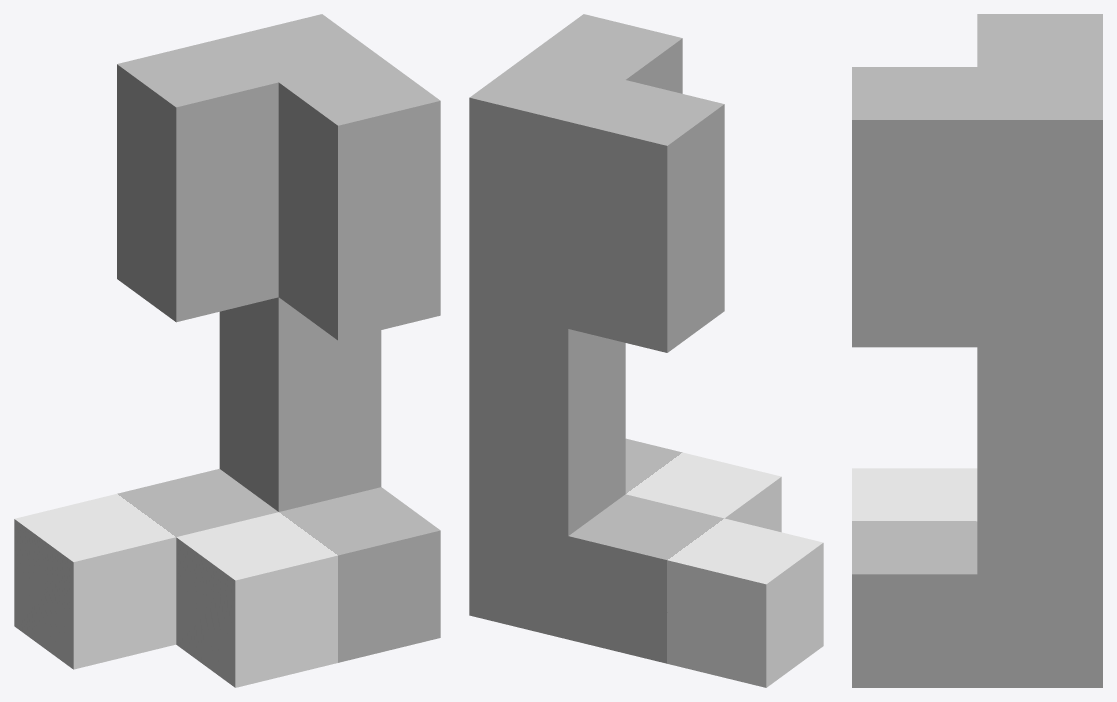
The model's file is SkelLegL.dae.
The picture shows the model from 3 angles, left to right: view 1: azimuth 30°, elevation 25°; view 2: azimuth 150°, elevation 25°; view 3: azimuth 270°, elevation 25°; orthographic projection. The views are drawn at different scales.
Parts seen in each view (by area): view 1: SkelLegL; view 2: SkelLegL; view 3: SkelLegL.
Boxes of the visible parts, box(x1,y1,x2,y2) form: SkelLegL: box(14, 14, 440, 687); SkelLegL: box(469, 14, 823, 687); SkelLegL: box(852, 14, 1102, 687).
Bounding box in the file's own units: 0.3 × 0.2 × 0.5.
Materials: 1 (1 with a texture image).
